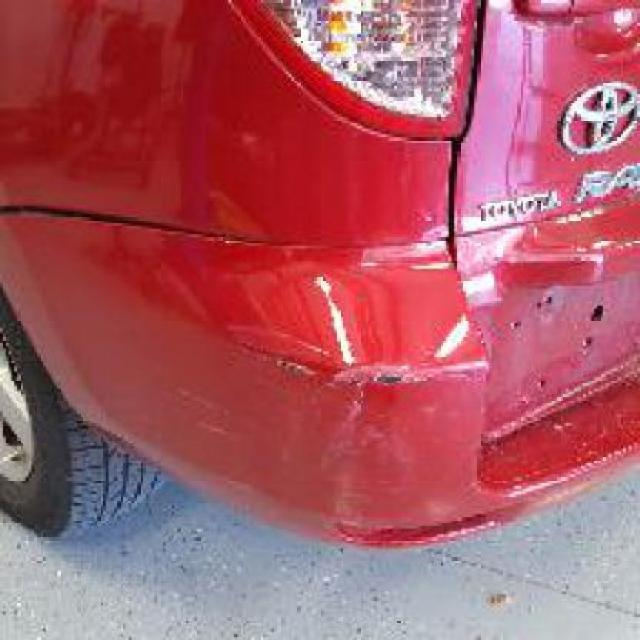dent-or-scratch: (231, 328, 457, 410)
